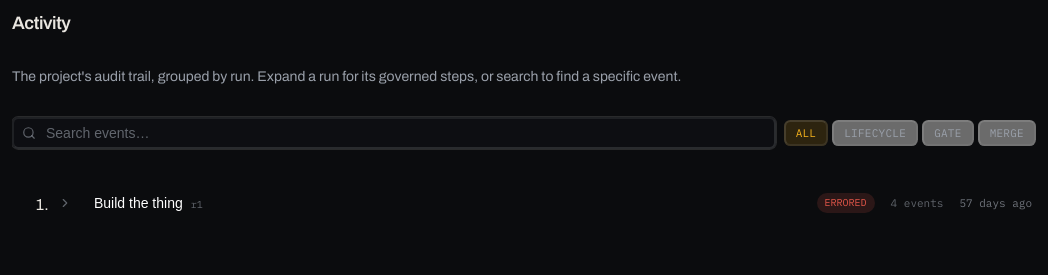
it: ActivityWorkspace › filters by kind
Check: the button "Build the thing" is shown, box x1=52 y1=181 x2=1036 y2=225
Click the tab "Merge".
click(1007, 133)  # box x1=978 y1=120 x2=1036 y2=146
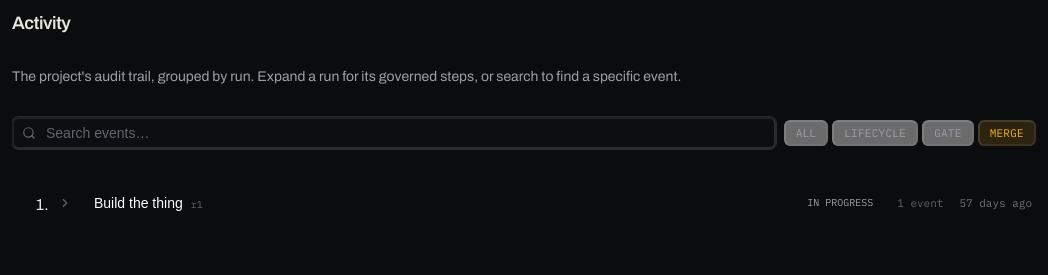
Click the button "Build the thing".
click(138, 203)  # box x1=52 y1=181 x2=1036 y2=225
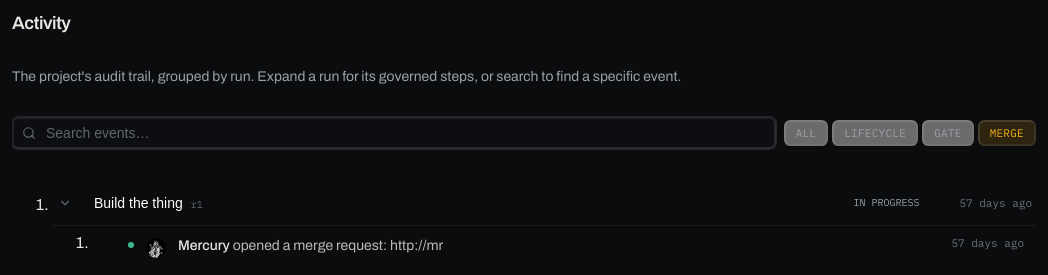
Check: the text "opened a merge request: http://mr" is shown, box x1=233 y1=238 x2=443 y2=253
